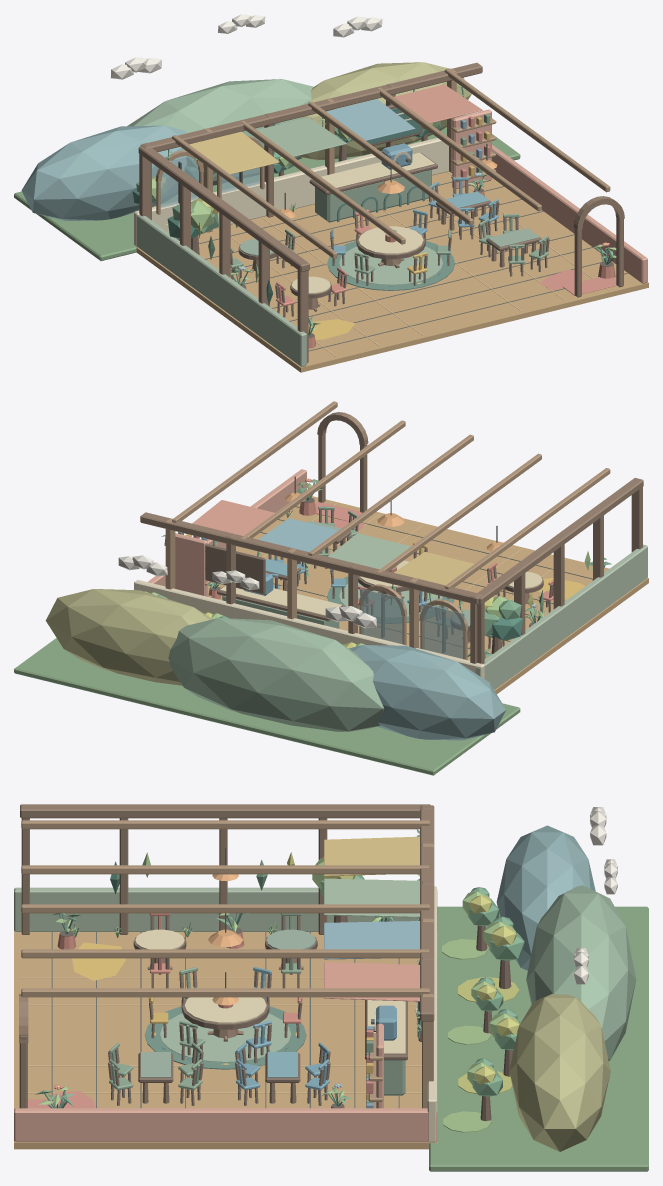
Rendered from echo_world_storybook_cafe.glb.
3 renders of one model, top to bottom at view 1: azimuth 30°, elevation 25°; view 2: azimuth 150°, elevation 25°; view 3: azimuth 270°, elevation 25°, orthographic. The views are drawn at different scales.
Parts seen in each view (by area): view 1: GROUND_CafeFloor, SCENERY_Hill_01, ARCH_LeftWall_Base, SCENERY_Hill_02, ARCH_BackWall_Base, ARCH_RightWall_Base, SCENERY_Hill_03, SCENERY_MeadowGround, ARCH_BackTopBeam, ARCH_LeftTopBeam, GEO_CoffeeBar_Base, ARCH_CanopyPanel_01 (+27 smaller); view 2: SCENERY_Hill_02, SCENERY_MeadowGround, GROUND_CafeFloor, SCENERY_Hill_03, SCENERY_Hill_01, ARCH_LeftWall_Base, ARCH_BackTopBeam, ARCH_BackWall_Base, ARCH_LeftTopBeam, GEO_Window_01_Glass, GEO_Window_02_Glass, GEO_StoryShelf_Back (+22 smaller); view 3: GROUND_CafeFloor, SCENERY_MeadowGround, ARCH_RightWall_Base, SCENERY_Hill_03, SCENERY_Hill_02, ARCH_LeftWall_Base, SCENERY_Hill_01, ARCH_LeftTopBeam, ARCH_CeilingRafter_03, ARCH_CeilingRafter_05, ARCH_CeilingRafter_01, ARCH_CeilingRafter_02 (+30 smaller).
Boxes of the visible parts, x1,y1,x2,y2 form: GROUND_CafeFloor: [136, 171, 648, 372]; SCENERY_Hill_01: [21, 125, 187, 220]; ARCH_LeftWall_Base: [137, 214, 306, 366]; SCENERY_Hill_02: [127, 79, 313, 185]; ARCH_BackWall_Base: [134, 138, 448, 246]; ARCH_RightWall_Base: [492, 144, 647, 283]; SCENERY_Hill_03: [299, 62, 471, 160]; SCENERY_MeadowGround: [14, 115, 520, 260]; ARCH_BackTopBeam: [140, 62, 482, 151]; ARCH_LeftTopBeam: [138, 146, 309, 272]; GEO_CoffeeBar_Base: [315, 169, 431, 222]; ARCH_CanopyPanel_01: [189, 131, 279, 174]; SCENERY_Hill_02: [168, 618, 383, 731]; SCENERY_MeadowGround: [14, 638, 520, 775]; GROUND_CafeFloor: [207, 496, 648, 693]; SCENERY_Hill_03: [45, 589, 211, 685]; SCENERY_Hill_01: [349, 645, 505, 740]; ARCH_LeftWall_Base: [475, 544, 647, 689]; ARCH_BackTopBeam: [140, 512, 481, 604]; ARCH_BackWall_Base: [134, 579, 484, 678]; ARCH_LeftTopBeam: [477, 478, 643, 604]; GEO_Window_01_Glass: [421, 603, 464, 659]; GEO_Window_02_Glass: [360, 588, 403, 644]; GEO_StoryShelf_Back: [175, 533, 207, 596]; GROUND_CafeFloor: [14, 931, 437, 1149]; SCENERY_MeadowGround: [429, 906, 648, 1171]; ARCH_RightWall_Base: [14, 1108, 437, 1142]; SCENERY_Hill_03: [509, 993, 610, 1151]; SCENERY_Hill_02: [526, 885, 636, 1060]; ARCH_LeftWall_Base: [14, 887, 437, 931]; SCENERY_Hill_01: [496, 825, 595, 970]; ARCH_LeftTopBeam: [20, 804, 430, 818]; ARCH_CeilingRafter_03: [21, 904, 429, 913]; ARCH_CeilingRafter_05: [21, 988, 429, 997]; ARCH_CeilingRafter_01: [21, 820, 429, 829]; ARCH_CeilingRafter_02: [21, 865, 429, 874].
Size of the model in its own units: 15.39 by 5.23 by 15.
